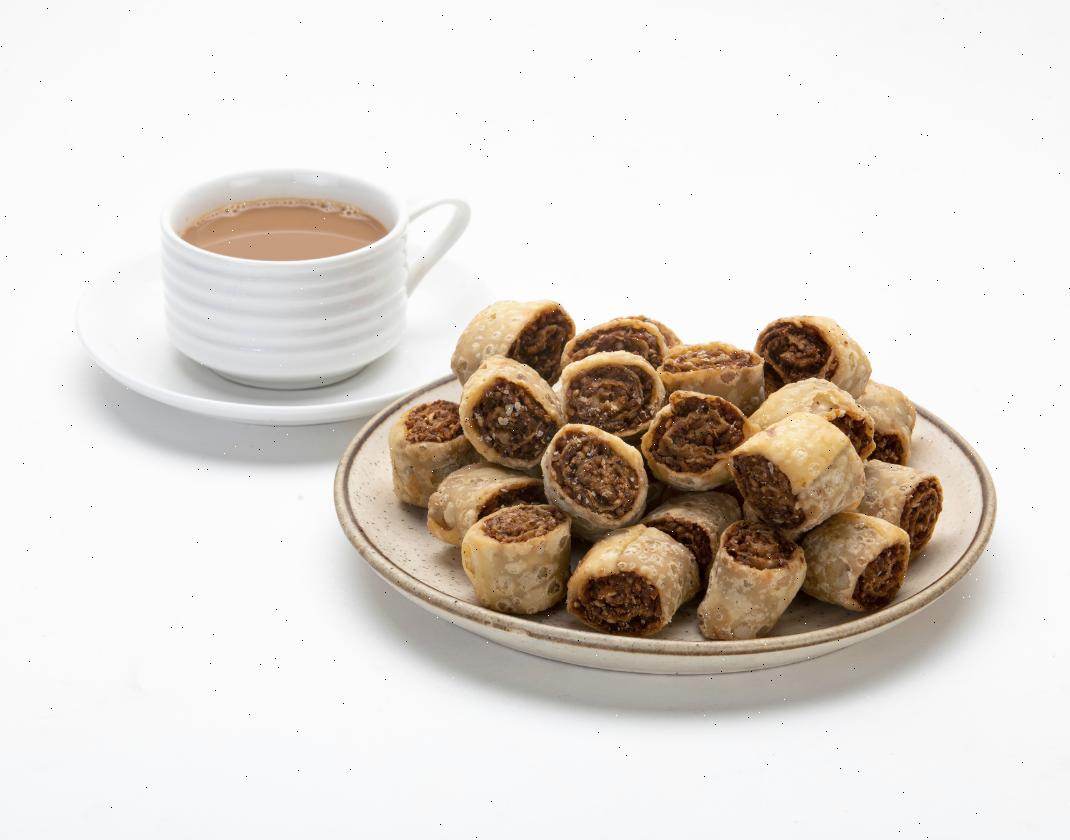bhakarwadi: (388, 319, 946, 641)
